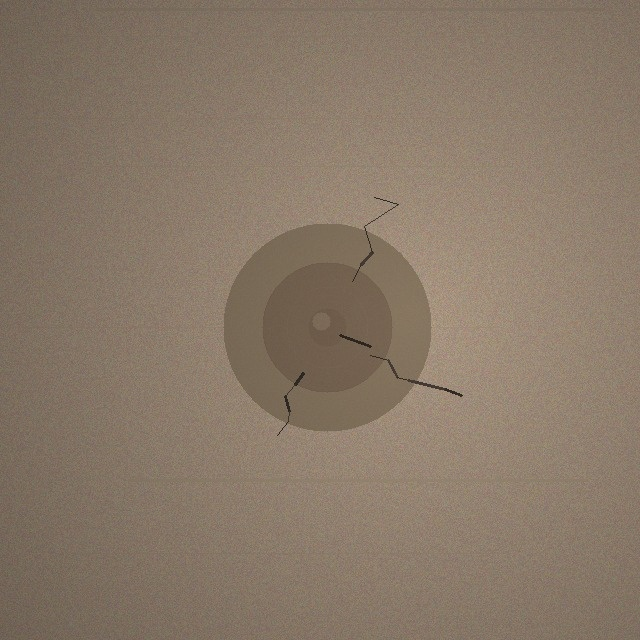crack: (223, 223, 431, 431)
